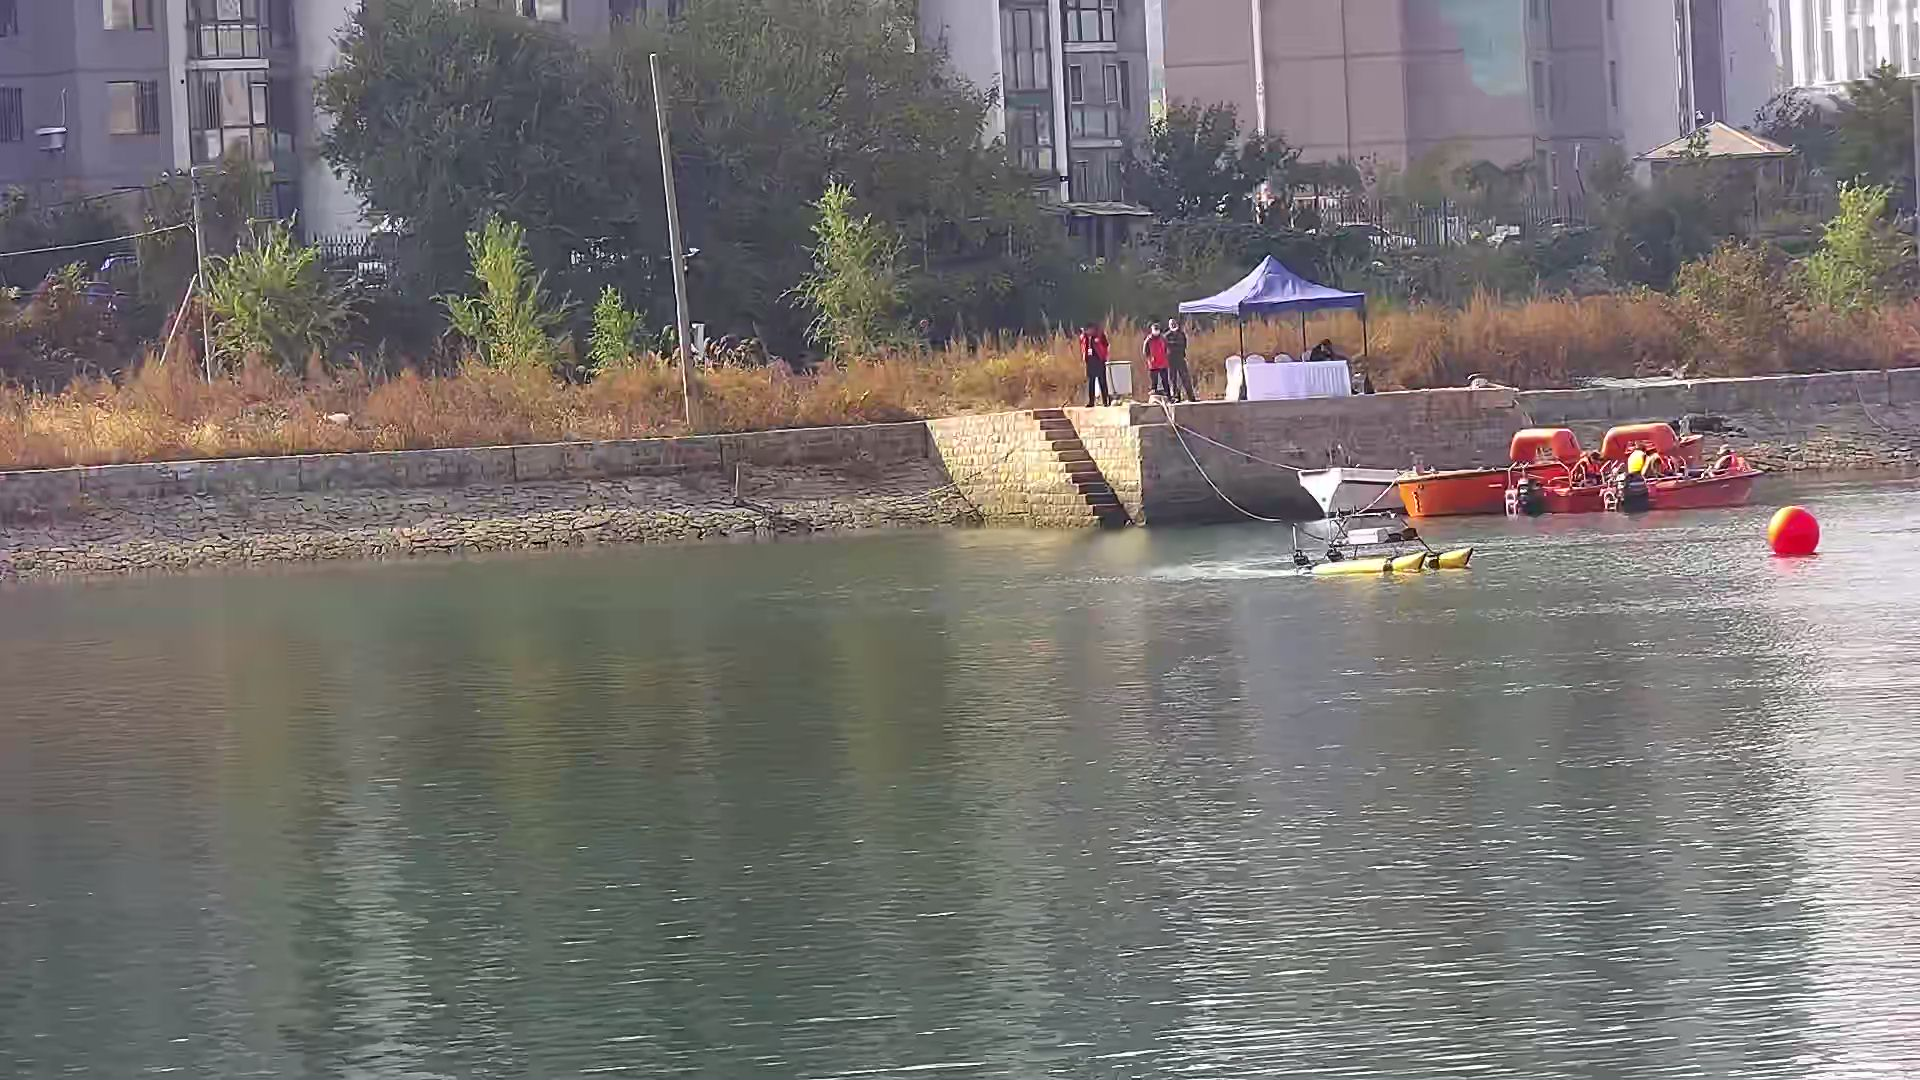ball: (1762, 506, 1822, 560)
boat: (1520, 421, 1771, 516), (1395, 427, 1592, 516), (1284, 520, 1472, 582), (1296, 456, 1484, 513)
